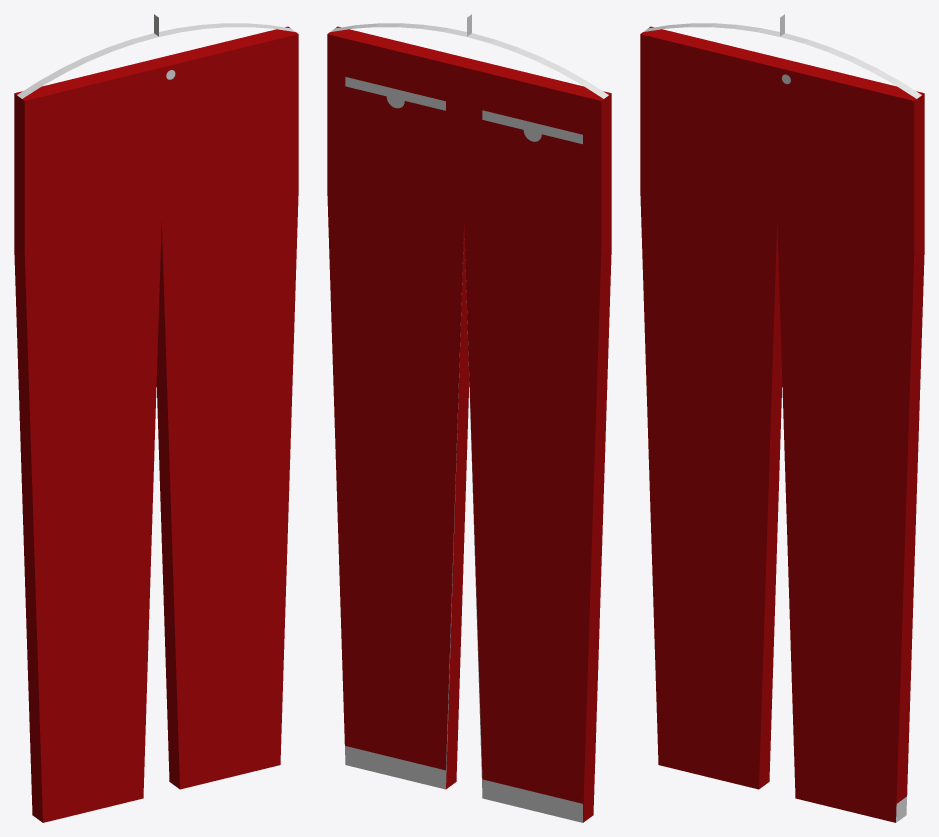
Rendered from pants-red.dae.
The picture shows the model from 3 angles, left to right: view 1: azimuth 30°, elevation 25°; view 2: azimuth 150°, elevation 25°; view 3: azimuth 330°, elevation 25°; orthographic projection.
Visible parts, largest first — view 1: group_0_002, group_0_016, group_0_005, group_0_001; view 2: group_0_006, group_0_005, group_0_002, group_0_016, group_0_019, group_0_015, group_0_001; view 3: group_0_002, group_0_016, group_0_005, group_0_006, group_0_013, group_0_001.
Boxes of the visible parts, x1,y1,x2,y2 form: group_0_002: (14,87,161,822); group_0_016: (156,53,298,789); group_0_005: (14,26,298,219); group_0_001: (17,23,295,98); group_0_006: (327,53,601,816); group_0_005: (327,26,611,119); group_0_002: (583,113,611,822); group_0_016: (446,222,469,789); group_0_019: (482,779,582,822); group_0_015: (345,746,445,789); group_0_001: (330,23,608,98); group_0_002: (640,53,777,789); group_0_016: (777,91,914,822); group_0_005: (640,26,924,219); group_0_006: (896,113,924,803); group_0_013: (759,222,782,789); group_0_001: (643,23,921,98).
Size of the model in its own units: 0.381 by 0.0254 by 1.03.
